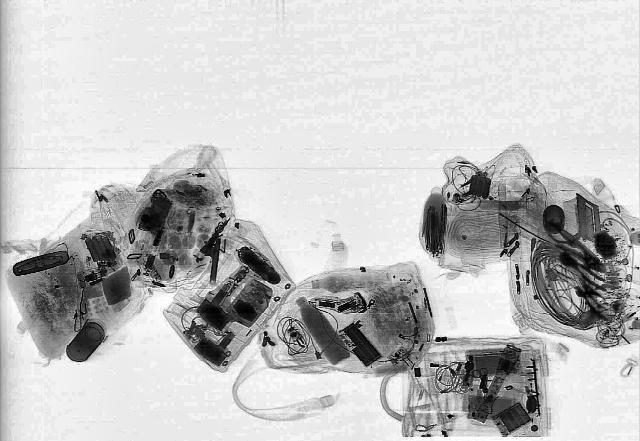Pliers: (550, 251, 616, 293), (536, 220, 590, 254)
